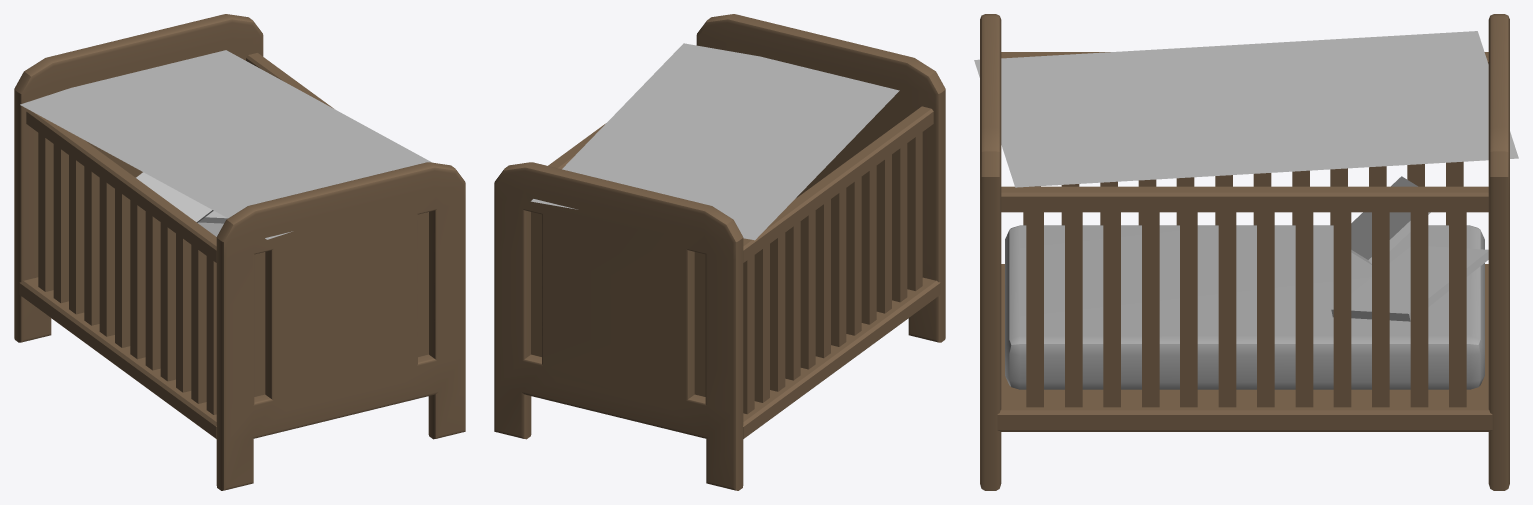
Rendered from ModelosEscenarioCuna.fbx.
3 views of the same model, side by side, from view 1: azimuth 30°, elevation 25°; view 2: azimuth 150°, elevation 25°; view 3: azimuth 270°, elevation 25° (orthographic). The views are drawn at different scales.
Visible parts, largest first — view 1: Lat2, MantaLow1, Lat1, Base, vayaLat01, pCube18, pCube6, pCube11, pCube13, pCube17, pCube8, pCube5 (+7 smaller); view 2: Lat1, MantaLow1, Lat2, Base, vayaLat01, pCube9, pCube15, pCube17, pCube16, pCube13, pCube8, pCube11 (+5 smaller); view 3: MantaLow1, Colchon, Base, vayaLat02, Lat2, Lat1, CojinLow1, pCube18, pCube17, pCube12, pCube11, pCube19 (+8 smaller).
Boxes of the visible parts, <box> form: Lat2: <box>216,162,465,490</box>; MantaLow1: <box>20,50,431,239</box>; Lat1: <box>14,14,263,342</box>; Base: <box>19,277,216,439</box>; vayaLat01: <box>26,109,216,262</box>; pCube18: <box>160,222,175,381</box>; pCube6: <box>53,144,68,303</box>; pCube11: <box>145,211,160,370</box>; pCube13: <box>99,178,114,336</box>; pCube17: <box>191,245,206,403</box>; pCube8: <box>84,166,99,325</box>; pCube5: <box>38,133,53,291</box>; Lat1: <box>494,162,743,490</box>; MantaLow1: <box>531,43,899,240</box>; Lat2: <box>696,14,945,342</box>; Base: <box>743,277,940,439</box>; vayaLat01: <box>743,106,933,262</box>; pCube9: <box>770,233,785,391</box>; pCube15: <box>831,188,846,346</box>; pCube17: <box>892,143,907,302</box>; pCube16: <box>907,132,922,290</box>; pCube13: <box>800,210,815,369</box>; pCube8: <box>785,221,800,380</box>; pCube11: <box>846,177,861,335</box>; MantaLow1: <box>974,31,1518,187</box>; Colchon: <box>1005,225,1484,389</box>; Base: <box>997,264,1492,431</box>; vayaLat02: <box>1001,186,1488,212</box>; Lat2: <box>980,14,1001,490</box>; Lat1: <box>1488,14,1509,490</box>; CojinLow1: <box>1331,246,1488,321</box>; pCube18: <box>1333,212,1351,407</box>; pCube17: <box>1410,212,1428,407</box>; pCube12: <box>1218,212,1236,407</box>; pCube11: <box>1295,212,1313,407</box>; pCube19: <box>1372,212,1389,407</box>.
Size of the model in its own units: 0.0628 by 0.0644 by 0.0924.
